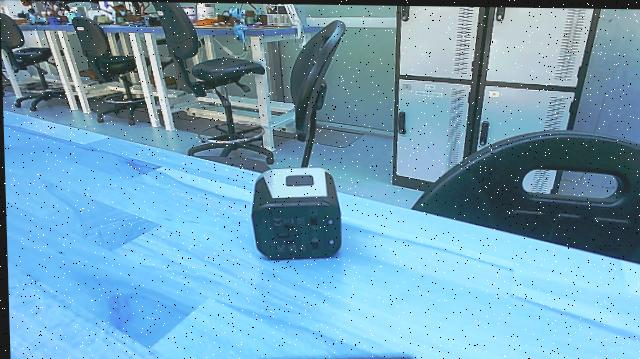adapter: (247, 162, 345, 268)
